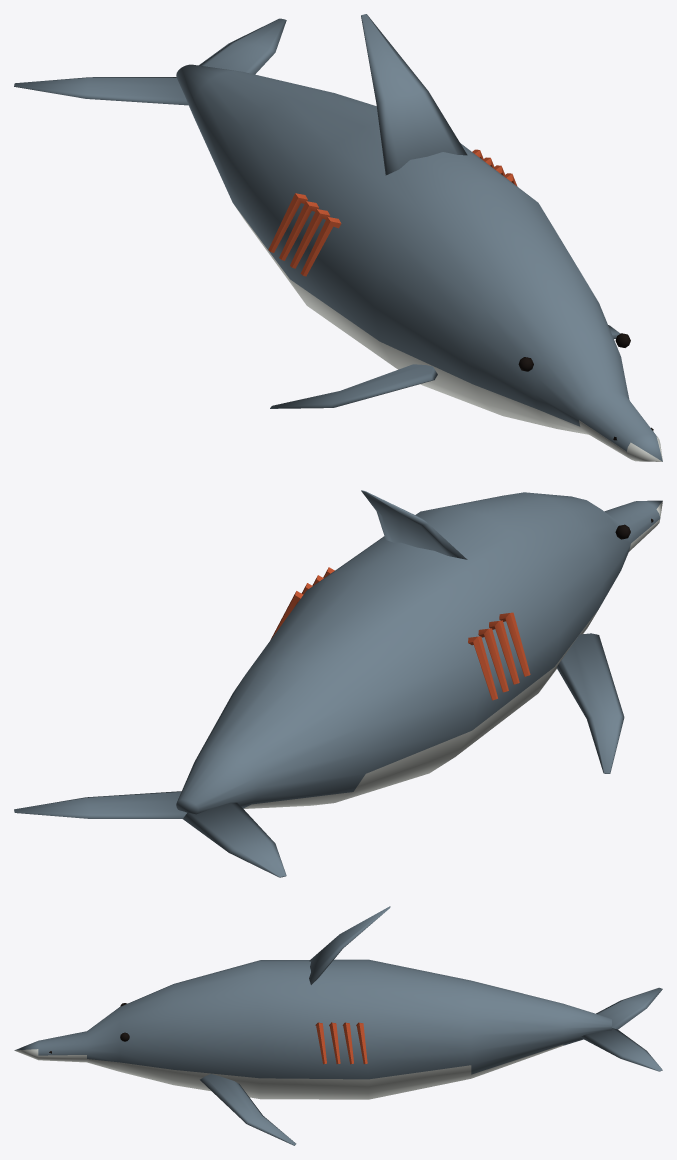
The model's file is fauna.glb.
3 renders of one model, top to bottom at view 1: azimuth 30°, elevation 25°; view 2: azimuth 150°, elevation 25°; view 3: azimuth 270°, elevation 25°, orthographic. The views are drawn at different scales.
Visible parts, largest first — view 1: delfin_malla, cangrejo_malla; view 2: delfin_malla, cangrejo_malla; view 3: delfin_malla, cangrejo_malla.
Part boxes in pixels (left/top/right/bottom): delfin_malla: left=14, top=14, right=662, bottom=461; cangrejo_malla: left=268, top=149, right=517, bottom=276; delfin_malla: left=14, top=490, right=662, bottom=877; cangrejo_malla: left=271, top=567, right=530, bottom=700; delfin_malla: left=14, top=906, right=662, bottom=1145; cangrejo_malla: left=315, top=1022, right=367, bottom=1064.
Bounding box in the file's own units: 0.9133 × 0.7628 × 2.4.
